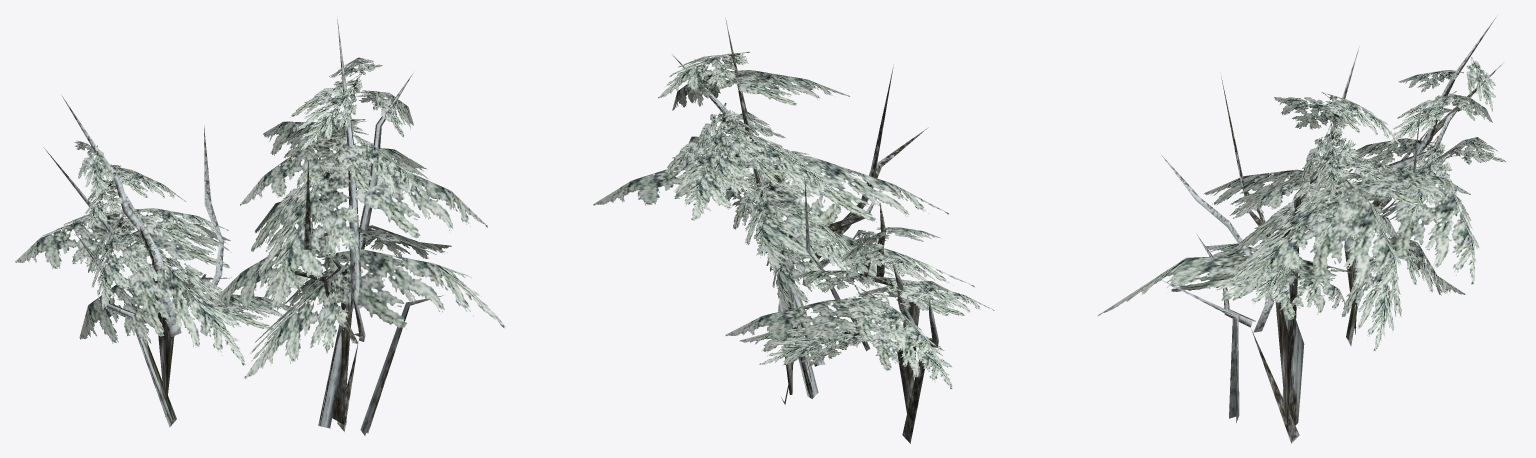
Rendered from S_Tree_White014_1.FBX.
The picture shows the model from 3 angles, left to right: view 1: azimuth 30°, elevation 25°; view 2: azimuth 150°, elevation 25°; view 3: azimuth 270°, elevation 25°; orthographic projection. The views are drawn at different scales.
Parts seen in each view (by area): view 1: S_Tree_White014_1; view 2: S_Tree_White014_1; view 3: S_Tree_White014_1.
Part boxes in pixels (<box>): S_Tree_White014_1: <box>15,16,505,435</box>; S_Tree_White014_1: <box>593,17,994,443</box>; S_Tree_White014_1: <box>1098,15,1505,443</box>.
Size of the model in its own units: 399 by 384 by 374.
